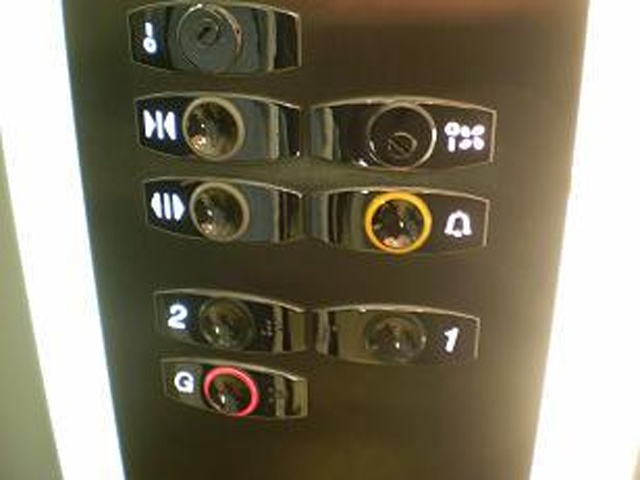1: (309, 300, 483, 373)
2: (148, 284, 309, 360)
G: (156, 354, 312, 424)
alarm: (309, 182, 495, 262)
close: (128, 89, 306, 169)
fan: (308, 93, 500, 175)
key: (122, 1, 306, 78)
open: (137, 173, 306, 251)
